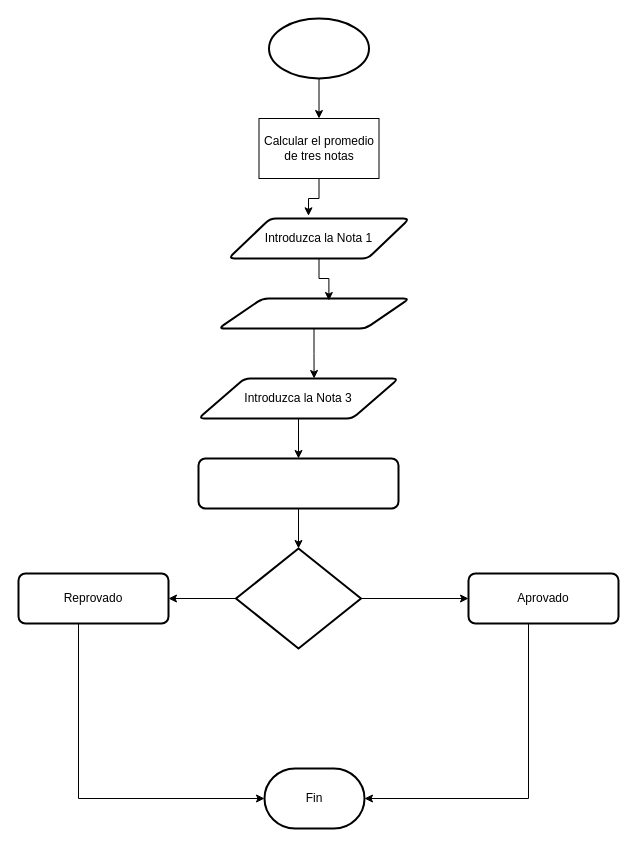
Image size: 636x846. Some labels were removed from this diagram. Here are the shapes that lost their labels. From the top down, the centre of each, then its label:
At (x=313, y=313): "Introduzca la Nota 2".
At (x=298, y=483): "Promedio= Nota1 + Nota2 + Nota3".
At (x=298, y=598): "promedio ≥ 70".
